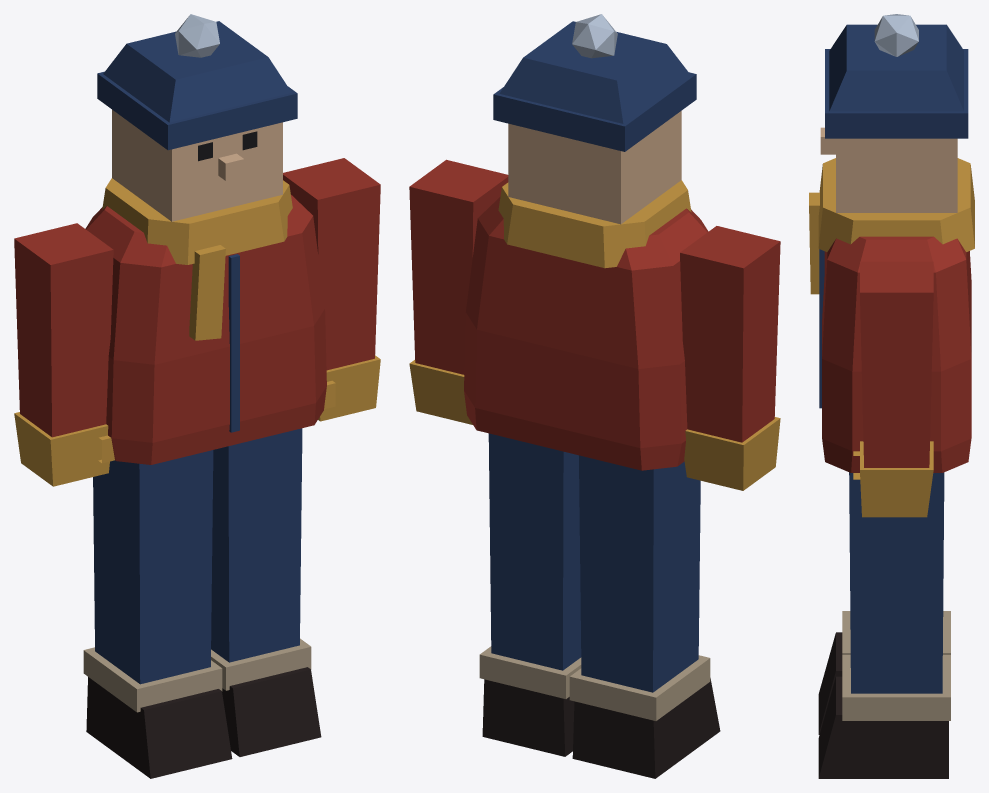
The model's file is player.glb.
3 views of the same model, side by side, from view 1: azimuth 30°, elevation 25°; view 2: azimuth 150°, elevation 25°; view 3: azimuth 270°, elevation 25° (orthographic).
Visible parts, largest first — view 1: Torso, LegR, Head, LegL, ArmR, ArmL; view 2: Torso, LegR, Head, LegL, ArmR, ArmL; view 3: LegL, Torso, Head, ArmL, LegR.
Part boxes in pixels (bbox=[...]): Torso: bbox=[85, 178, 326, 464]; LegR: bbox=[83, 450, 232, 778]; Head: bbox=[97, 14, 297, 221]; LegL: bbox=[211, 428, 321, 756]; ArmR: bbox=[14, 223, 114, 486]; ArmL: bbox=[283, 158, 380, 421]; Torso: bbox=[464, 180, 708, 470]; LegR: bbox=[569, 455, 720, 778]; Head: bbox=[493, 14, 696, 224]; LegL: bbox=[479, 433, 581, 756]; ArmR: bbox=[680, 226, 780, 490]; ArmL: bbox=[409, 159, 508, 424]; LegL: bbox=[818, 472, 950, 778]; Torso: bbox=[809, 158, 974, 472]; Head: bbox=[820, 14, 968, 212]; ArmL: bbox=[853, 261, 933, 517]; LegR: bbox=[818, 611, 950, 734].
Size of the model in its own units: 0.89 by 1.83 by 0.382.
